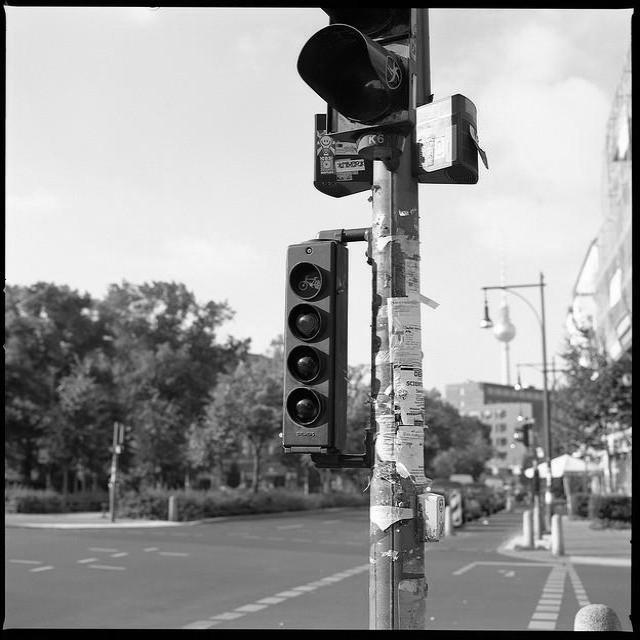vehicle: (427, 479, 464, 504), (466, 479, 492, 514), (463, 485, 484, 523), (490, 491, 506, 514), (511, 488, 529, 502)
